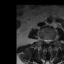CCS_stenosis: (46, 37, 48, 45)
LFS_normal: (50, 37, 53, 43)
LLS_normal: (48, 37, 50, 44)
RFS_normal: (42, 36, 44, 44)
RLS_normal: (44, 37, 46, 44)
